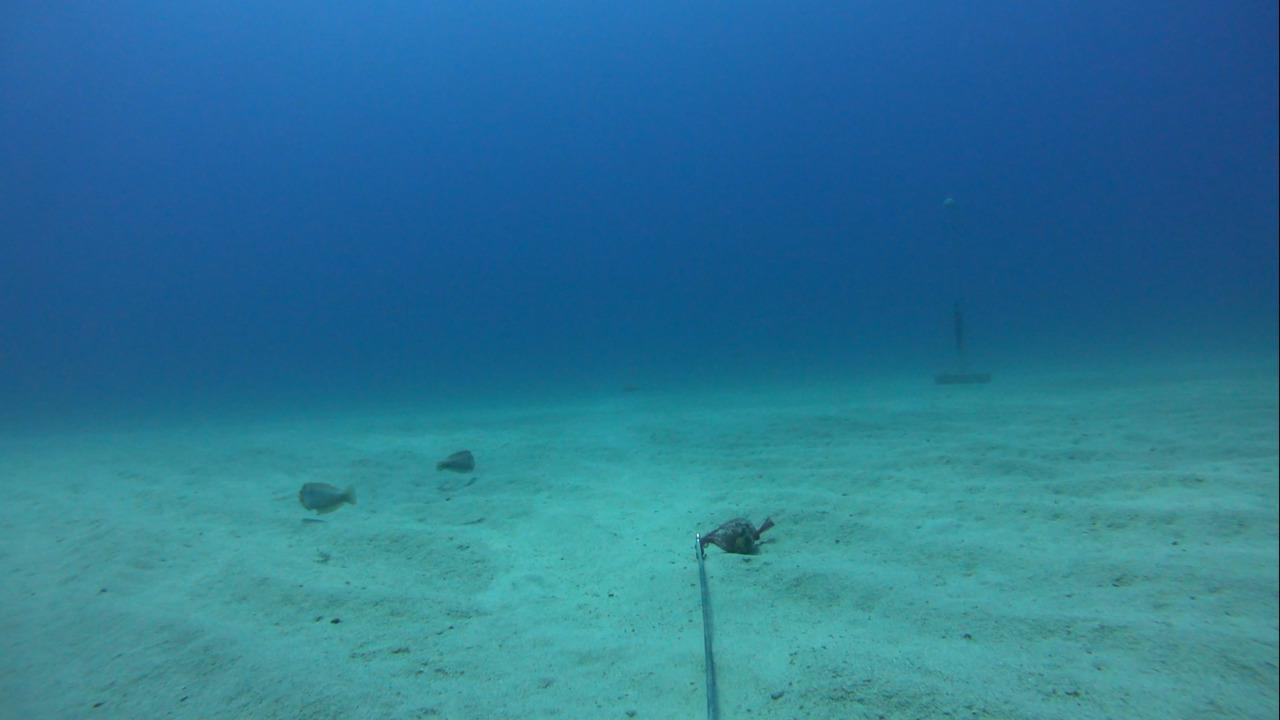raor: (290, 472, 365, 520), (429, 437, 482, 479)
